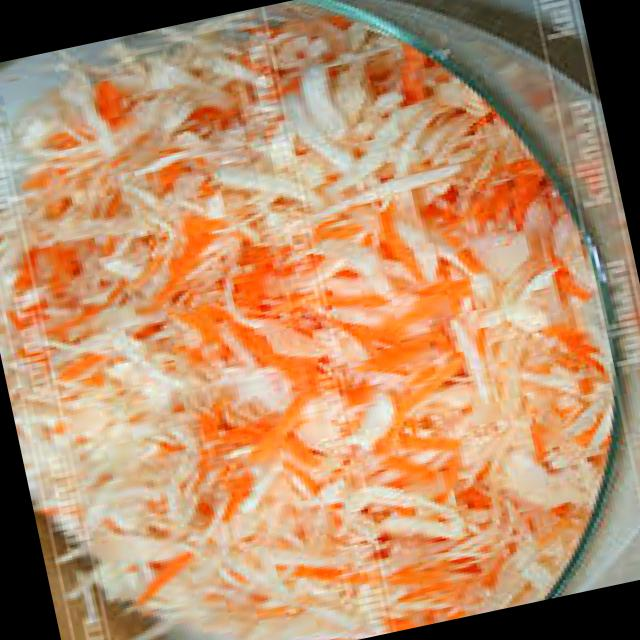Carrot: (175, 378, 248, 522), (226, 305, 331, 400), (376, 541, 471, 632), (142, 198, 233, 291), (348, 296, 448, 374), (201, 230, 287, 319), (9, 232, 104, 300), (455, 164, 546, 232), (366, 411, 462, 474), (234, 401, 313, 474), (72, 61, 140, 136), (120, 546, 204, 604), (0, 260, 60, 340), (40, 337, 110, 391), (128, 269, 186, 315)
cabbage: (228, 337, 617, 628), (0, 302, 283, 640), (202, 62, 472, 241), (0, 50, 213, 261), (438, 195, 602, 354)
